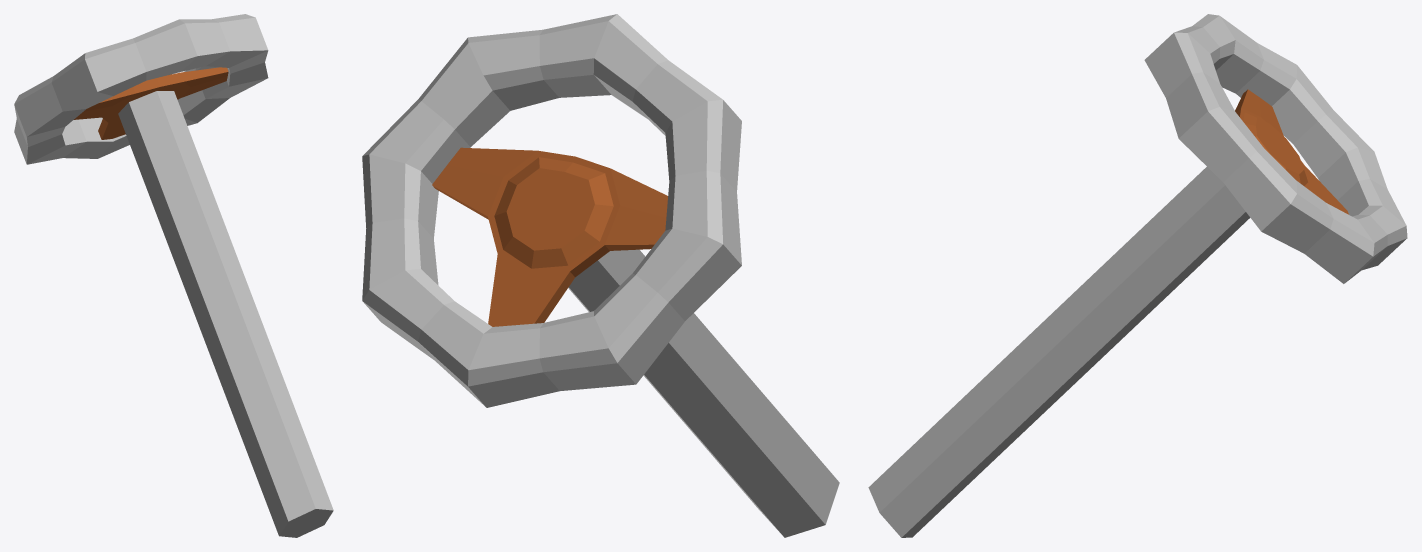
Rendered from SteeringWheel3.fbx.
3 views of the same model, side by side, from view 1: azimuth 30°, elevation 25°; view 2: azimuth 150°, elevation 25°; view 3: azimuth 270°, elevation 25° (orthographic). The views are drawn at different scales.
Visible parts, largest first — view 1: SteeringWheel3; view 2: SteeringWheel3; view 3: SteeringWheel3.
Boxes of the visible parts, left/top/right/bottom form: SteeringWheel3: left=14, top=14, right=333, bottom=537; SteeringWheel3: left=362, top=14, right=839, bottom=537; SteeringWheel3: left=868, top=14, right=1407, bottom=537.
Size of the model in its own units: 200 by 342 by 331.
